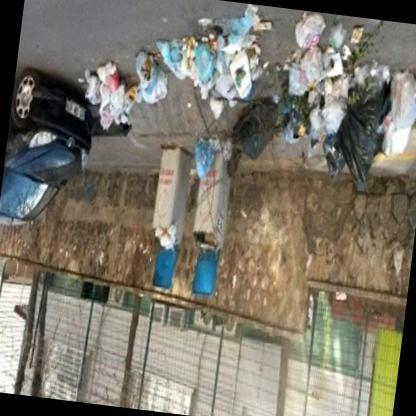Garbage: (274, 13, 415, 190), (85, 60, 141, 127), (121, 48, 178, 107), (233, 10, 268, 100), (380, 68, 415, 149), (206, 32, 242, 104), (292, 49, 332, 102), (152, 27, 188, 73), (285, 13, 327, 48), (180, 31, 208, 79), (223, 50, 250, 95), (94, 56, 121, 91), (192, 142, 216, 171), (204, 136, 232, 157), (156, 224, 178, 249)
